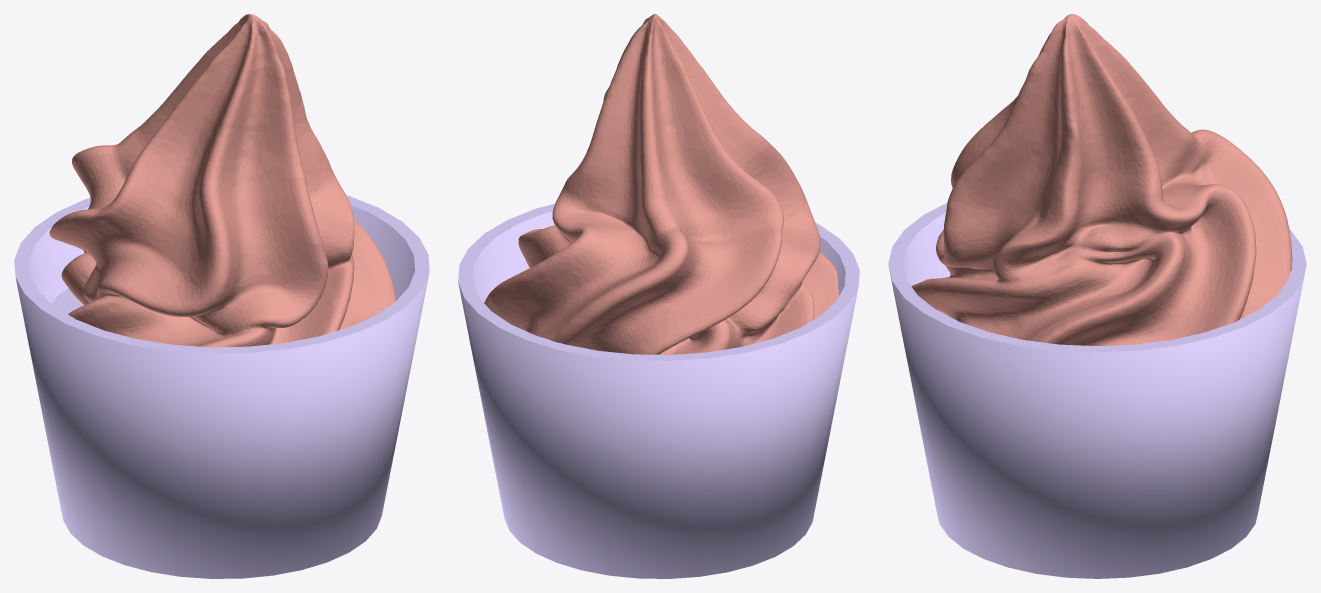
Rendered from softserve.gltf.
The picture shows the model from 3 angles, left to right: view 1: azimuth 30°, elevation 25°; view 2: azimuth 150°, elevation 25°; view 3: azimuth 270°, elevation 25°; orthographic projection. The views are drawn at different scales.
Parts seen in each view (by area): view 1: softserve; view 2: softserve; view 3: softserve.
Boxes of the visible parts, box(x1,y1,x2,y2) form: softserve: box(14, 14, 429, 578); softserve: box(458, 14, 859, 578); softserve: box(888, 14, 1306, 578).
Size of the model in its own units: 0.3878 by 0.5162 by 0.3878.
